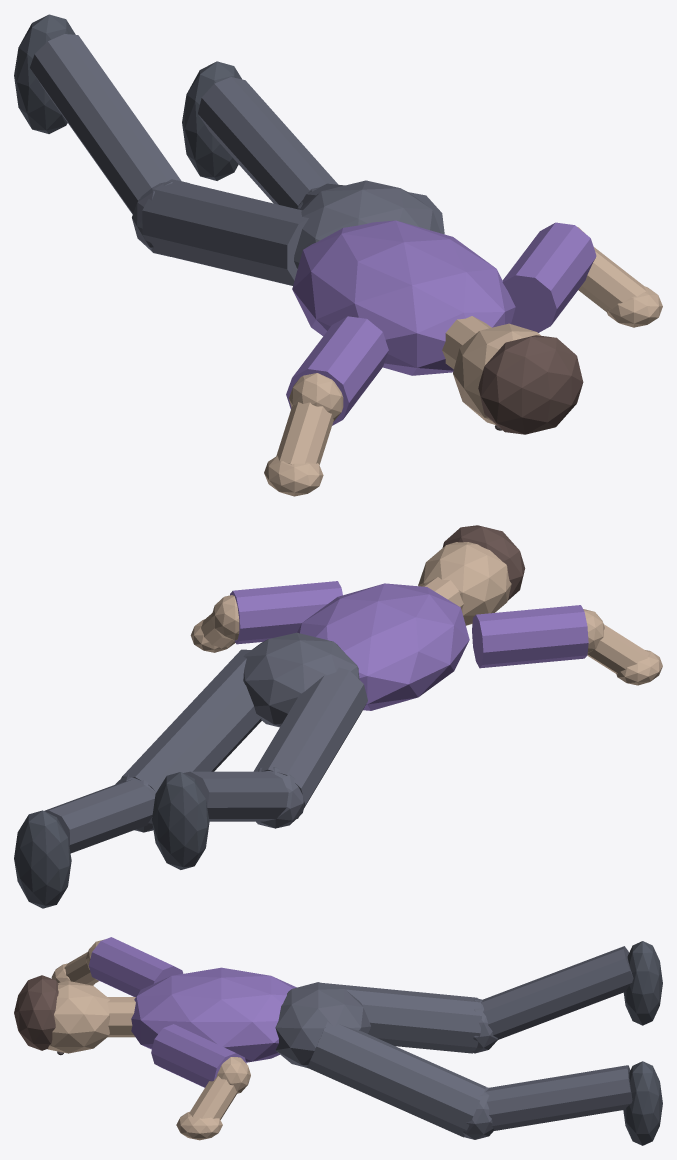
3 views of the same model, one above another, from view 1: azimuth 30°, elevation 25°; view 2: azimuth 150°, elevation 25°; view 3: azimuth 270°, elevation 25° (orthographic). The views are drawn at different scales.
Visible parts, largest first — view 1: world; view 2: world; view 3: world.
Boxes of the visible parts, bbox=[...] form: world: bbox=[14, 14, 662, 496]; world: bbox=[14, 525, 662, 908]; world: bbox=[14, 937, 662, 1145].
Bounding box in the file's own units: 1.25 × 0.52 × 2.08.
